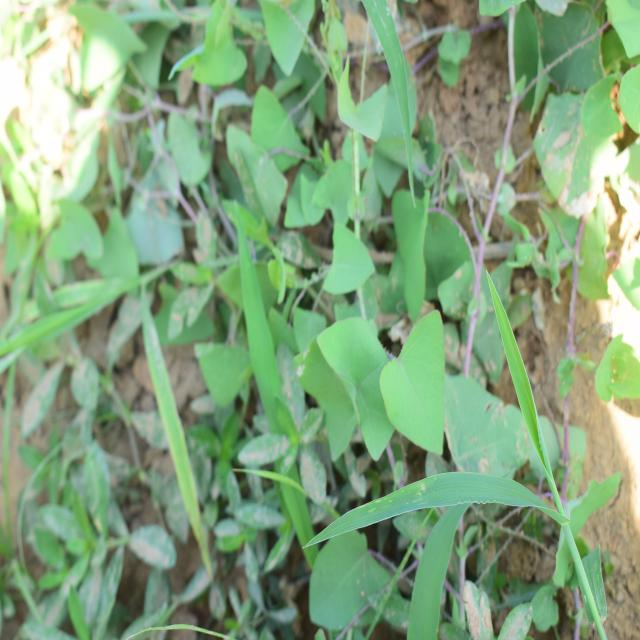Asiatic_Smartweed: (229, 49, 452, 302), (292, 300, 450, 468)
